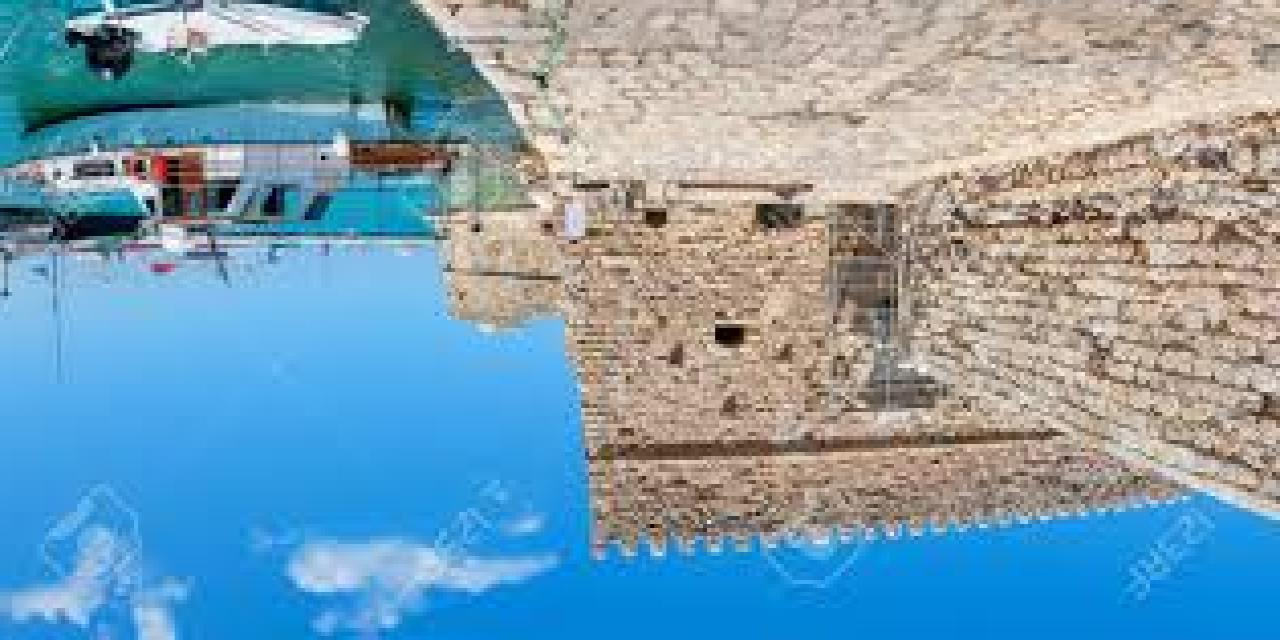Kules: (421, 198, 1280, 561)
